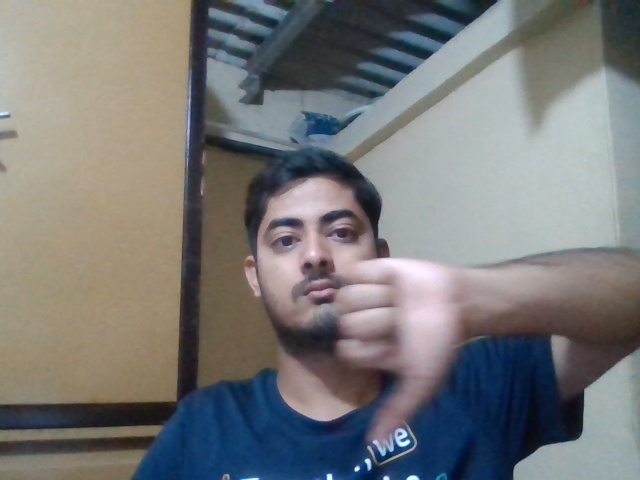ThumbsDown: (335, 256, 465, 443)
